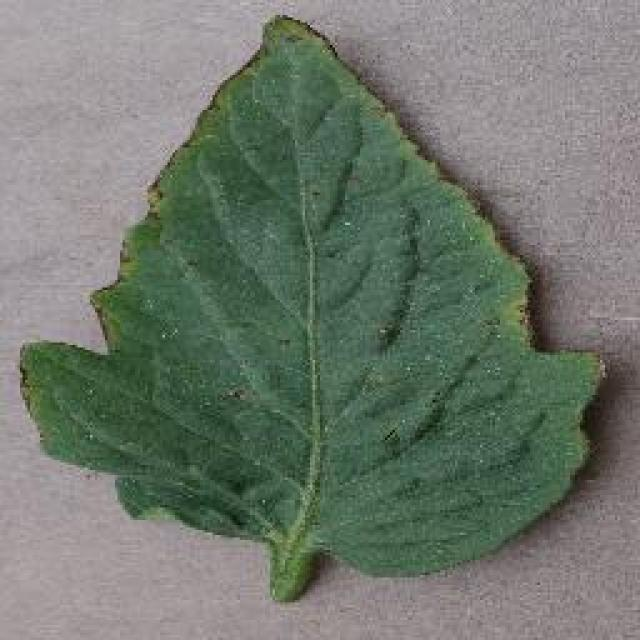Tomato___Bacterial_spot: (19, 10, 617, 604)
